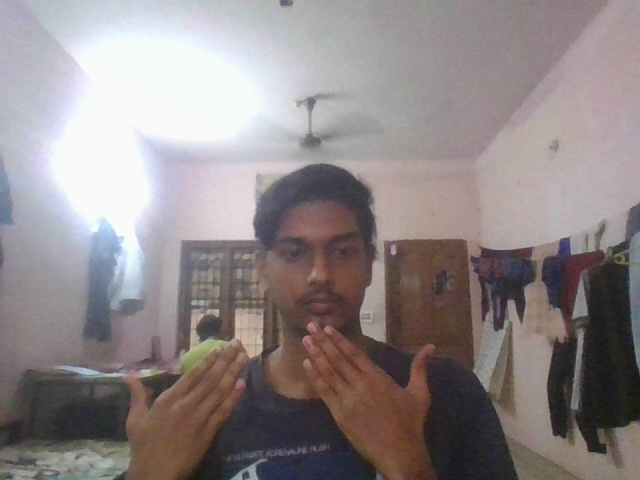thankyou: (117, 317, 440, 477)
